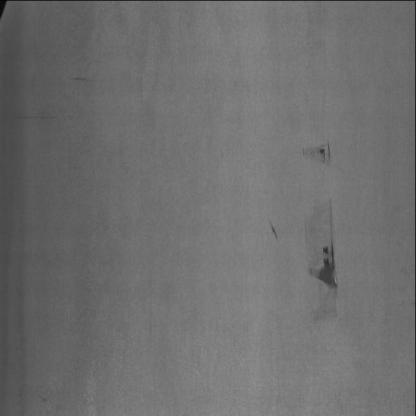rolled_pit: (291, 127, 347, 312)
